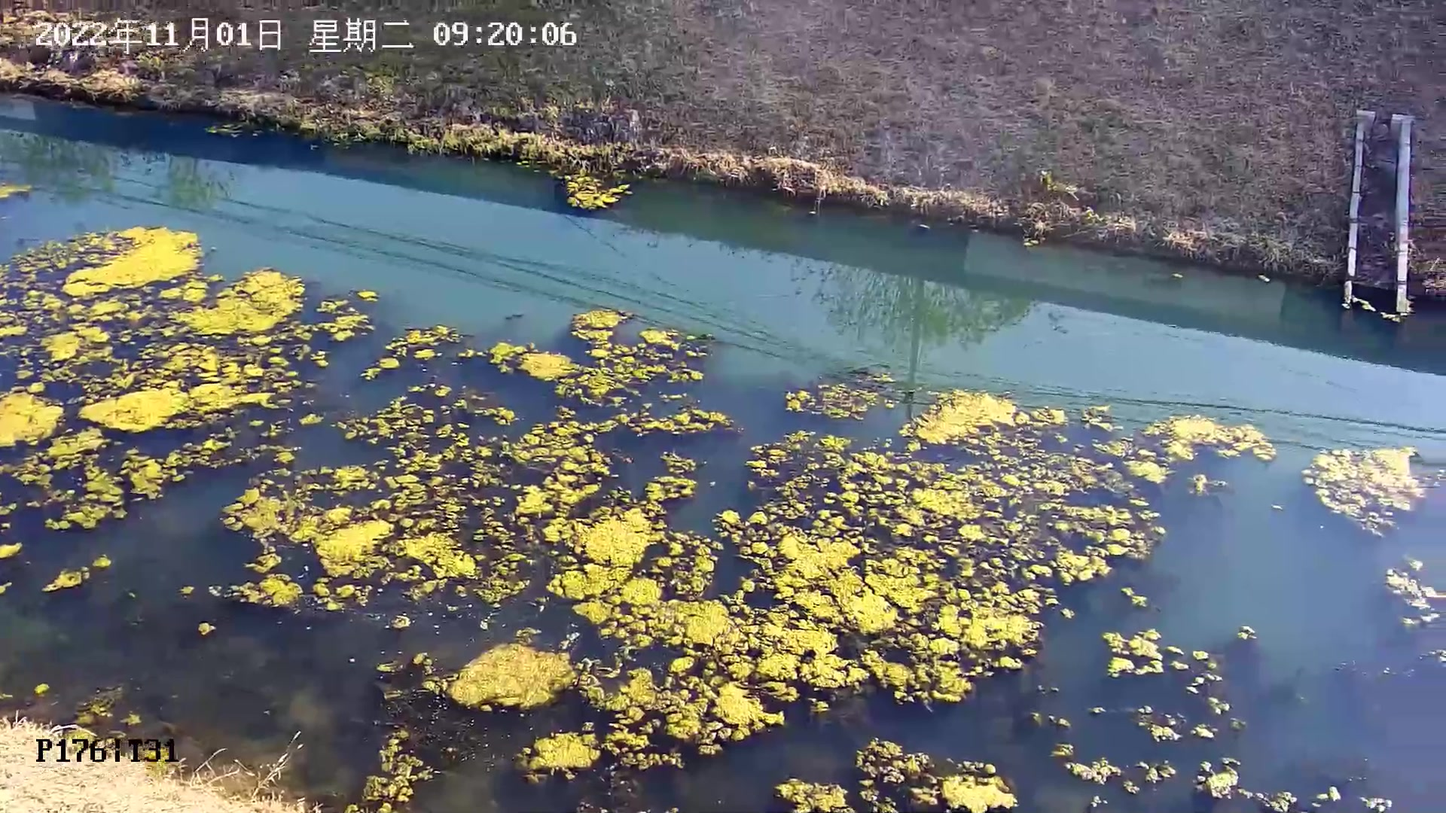floater: (222, 308, 1162, 784), (1, 222, 302, 532), (489, 308, 713, 405), (772, 737, 1018, 813), (222, 486, 394, 580), (1300, 440, 1429, 540), (546, 500, 664, 601), (63, 224, 199, 299), (441, 640, 576, 714), (167, 266, 302, 340), (899, 385, 1028, 448), (339, 730, 433, 813), (1142, 412, 1277, 466), (783, 364, 895, 423), (1384, 556, 1446, 636), (511, 726, 601, 781), (1, 391, 64, 452), (1100, 628, 1163, 681), (224, 573, 303, 614), (1054, 741, 1121, 787), (558, 170, 631, 211), (41, 553, 112, 593), (1190, 753, 1240, 799)
